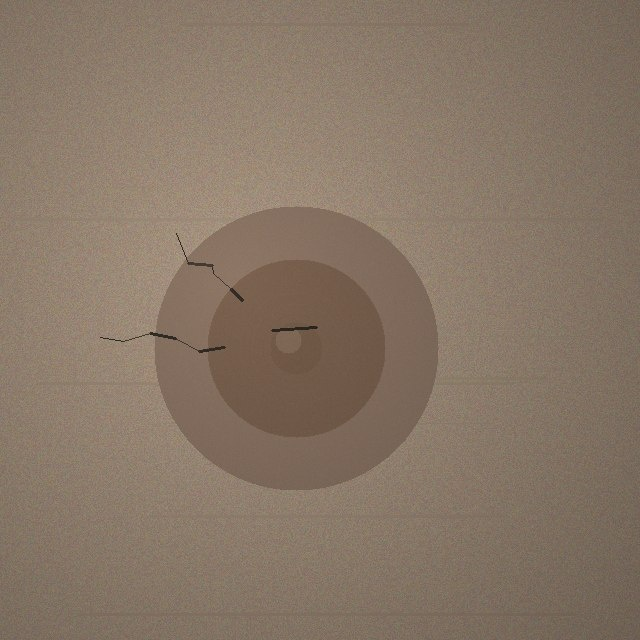crack: (154, 206, 438, 490)
